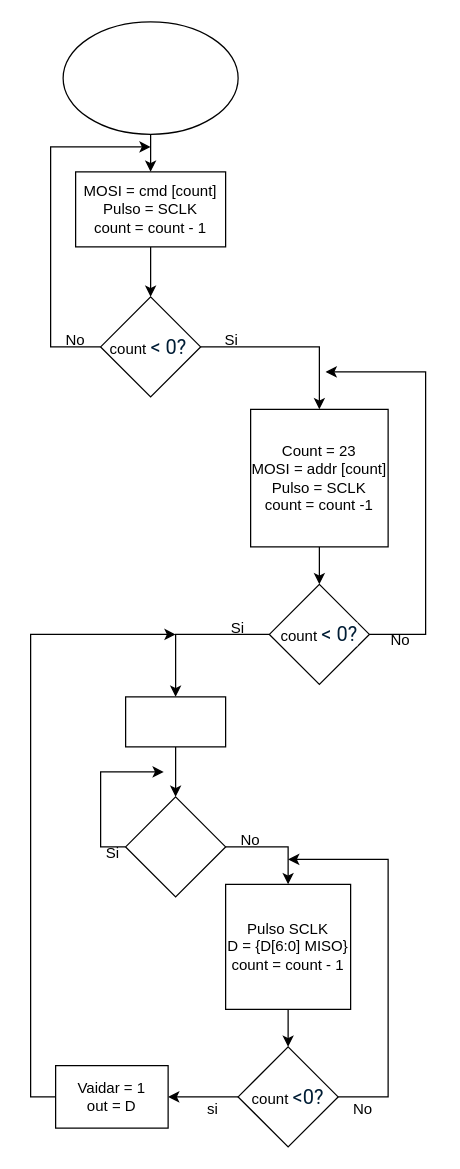
Image size: 460x1169. Some labels were removed from this diagram. The shapes that lost their labels are listed below. From the top down, each one's box as (x1, y1, x2, y2) in pixels, then its label:
(62, 21, 238, 134): Inicio Cs = 0 cmd = read addr = Dirección de inicio count = 7, D = 0
(124, 696, 226, 747): count = 7
(124, 796, 226, 897): Pausa = 1?
